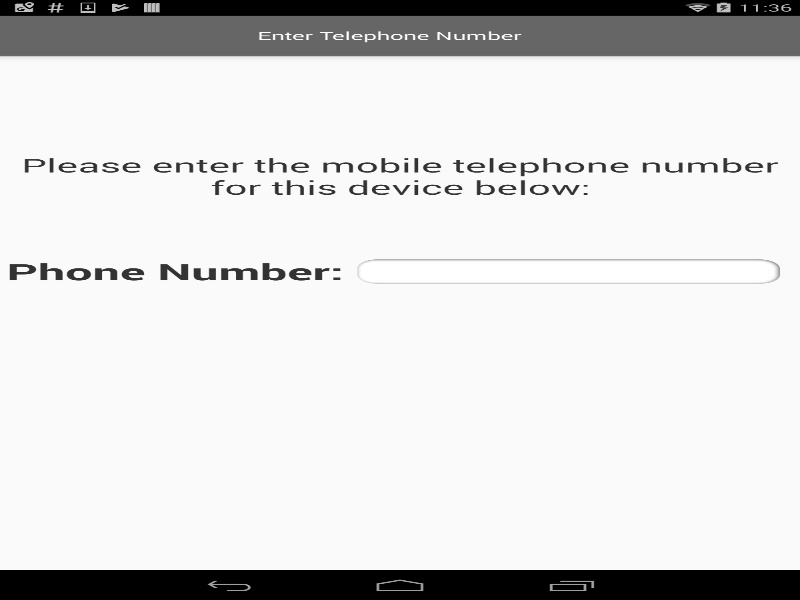Input: (354, 257, 782, 285)
